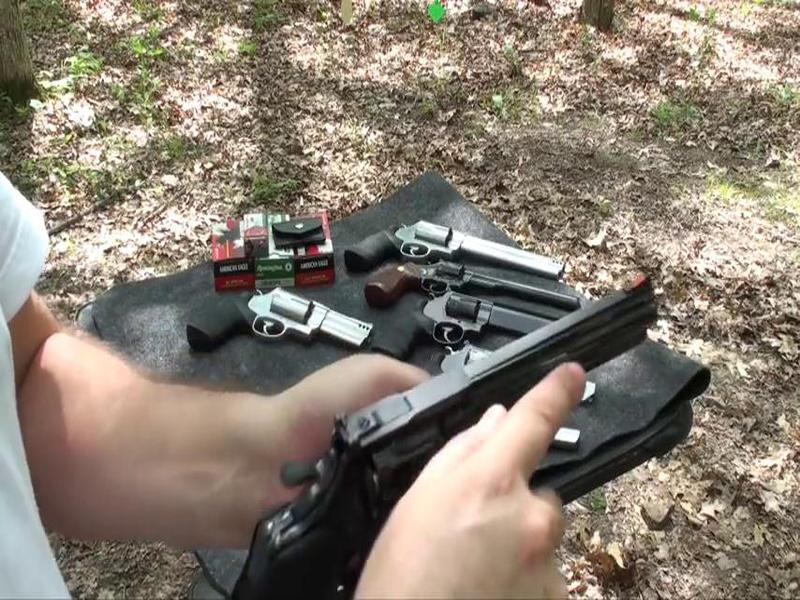Revolver: (281, 257, 661, 589)
